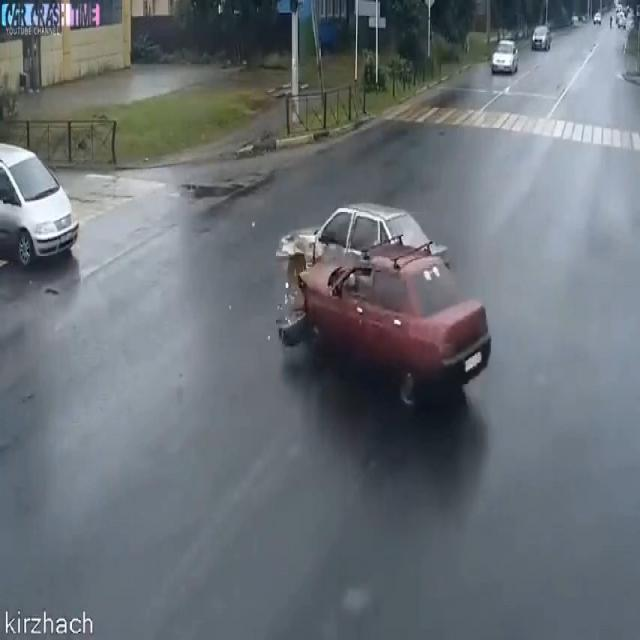Accident: (267, 140, 498, 428)
